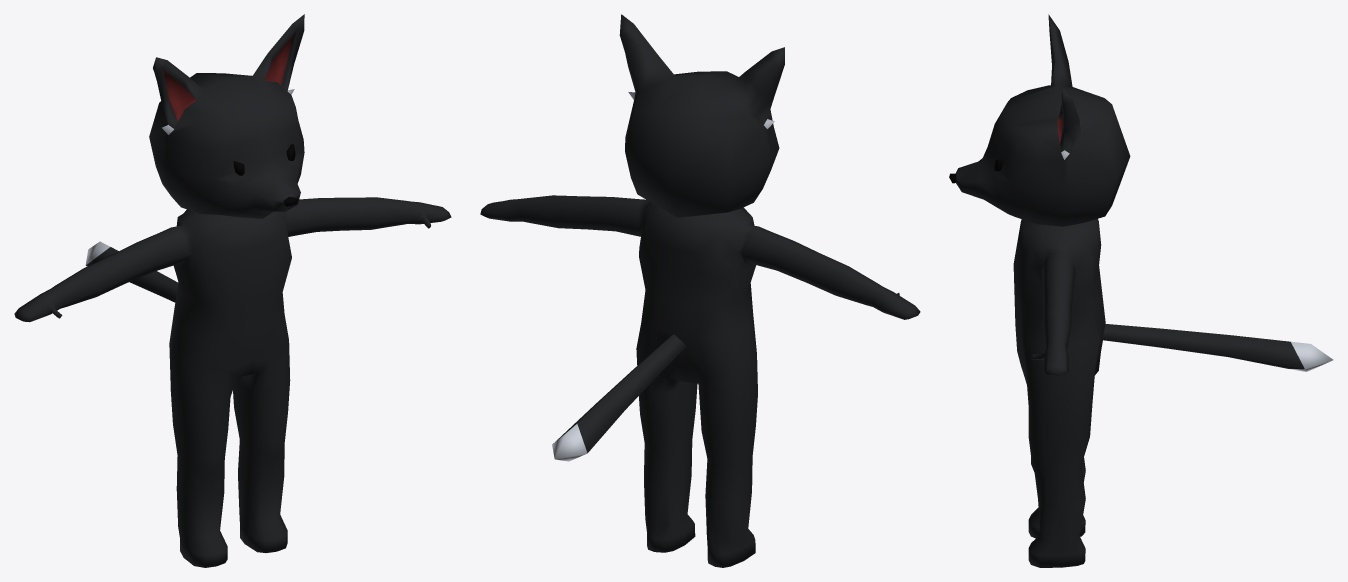
Rendered from Wolf.fbx.
3 views of the same model, side by side, from view 1: azimuth 30°, elevation 25°; view 2: azimuth 150°, elevation 25°; view 3: azimuth 270°, elevation 25° (orthographic). The views are drawn at different scales.
Visible parts, largest first — view 1: Torso, Head; view 2: Torso, Head; view 3: Torso, Head.
Part boxes in pixels (x1=…): Torso: x1=14, y1=197, x2=451, y2=567; Head: x1=149, y1=14, x2=304, y2=218; Torso: x1=480, y1=195, x2=920, y2=567; Head: x1=619, y1=14, x2=784, y2=217; Torso: x1=1013, y1=219, x2=1333, y2=567; Head: x1=949, y1=14, x2=1130, y2=226.
Size of the model in its own units: 43.76 by 49.65 by 34.99.
